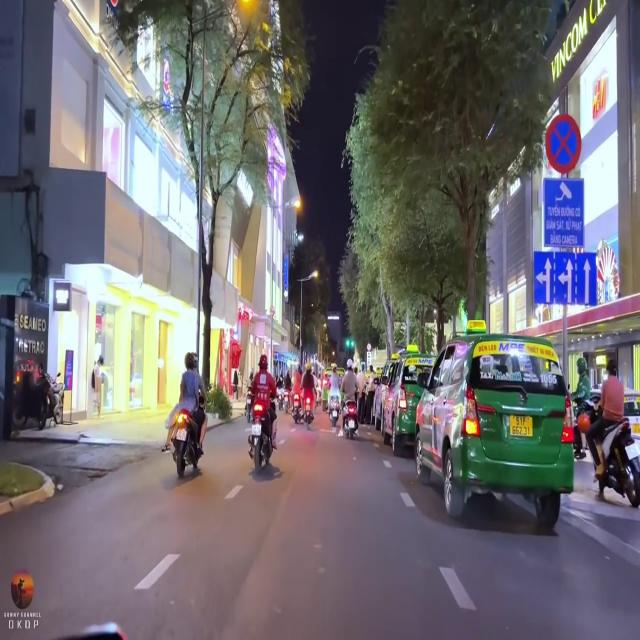bien_vang: (508, 407, 538, 442)
